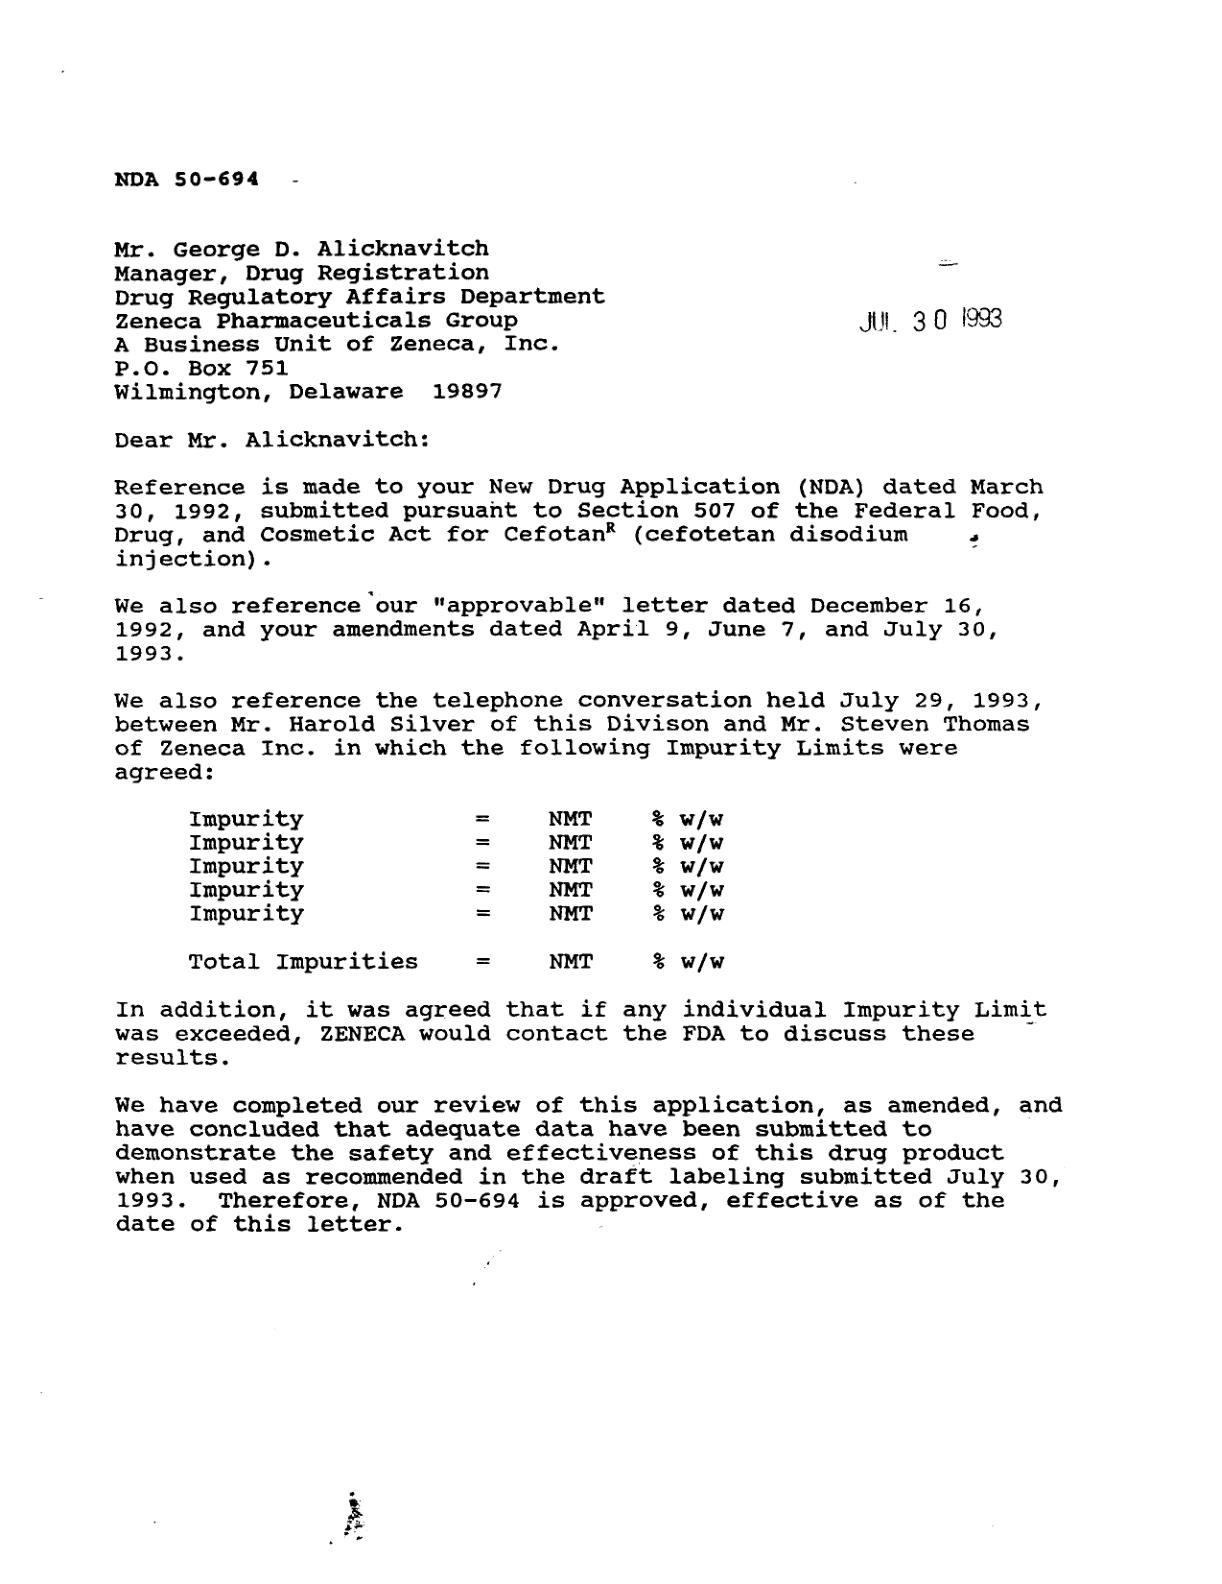nolines: (187, 807, 725, 972)
